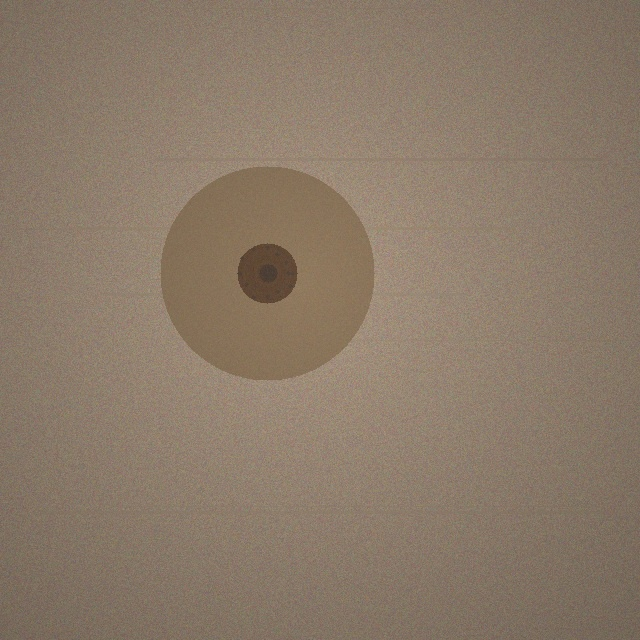cold_weld: (160, 166, 374, 380)
